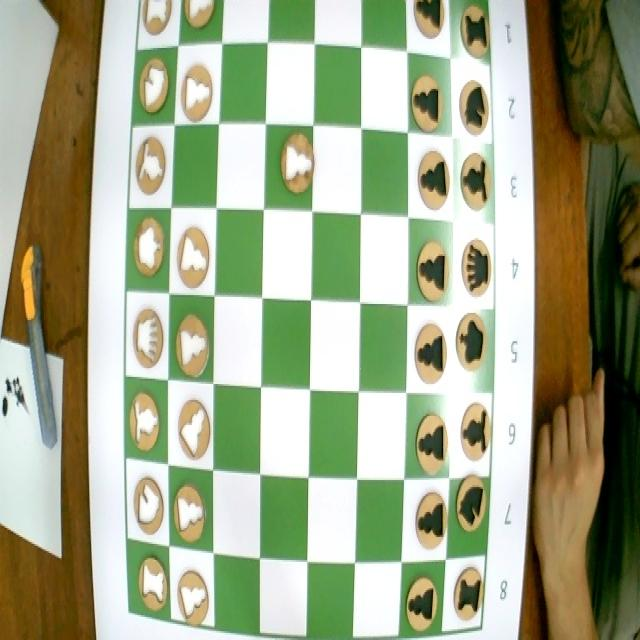chess-pieces: (412, 142, 454, 218), (129, 212, 169, 288), (416, 233, 454, 311), (126, 384, 164, 459), (458, 232, 496, 306), (278, 131, 316, 203), (173, 313, 211, 385), (130, 473, 167, 544), (457, 397, 494, 468), (174, 396, 212, 465), (412, 321, 448, 393), (414, 409, 452, 476), (457, 149, 495, 216), (172, 563, 211, 628), (178, 62, 216, 128), (413, 489, 448, 560), (130, 302, 166, 368), (132, 134, 168, 199), (172, 483, 208, 547), (176, 226, 209, 295), (135, 555, 170, 620), (403, 570, 439, 632), (454, 472, 490, 532), (454, 80, 491, 138), (450, 566, 486, 625), (411, 74, 446, 132), (138, 56, 168, 118), (455, 311, 486, 371), (458, 4, 492, 58), (408, 0, 447, 41), (181, 0, 215, 43), (140, 0, 174, 36)
